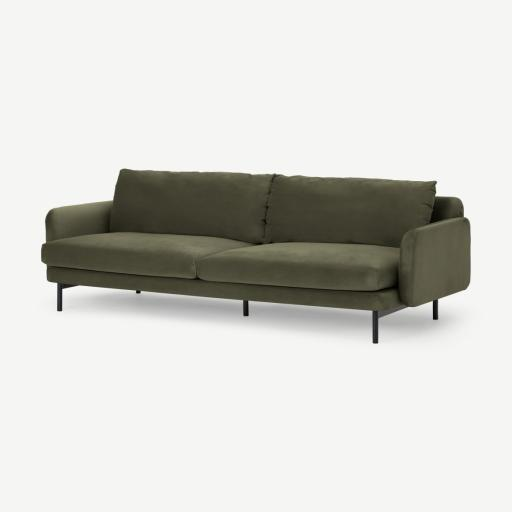back_cushion: (110, 169, 435, 246)
left_arm: (400, 218, 470, 320)
legs: (372, 305, 406, 343), (57, 283, 76, 311), (432, 300, 438, 320), (242, 301, 249, 316)
right_arm: (46, 202, 112, 242)
seat_cushion: (43, 233, 398, 291)
two-seater: (0, 0, 511, 512)
